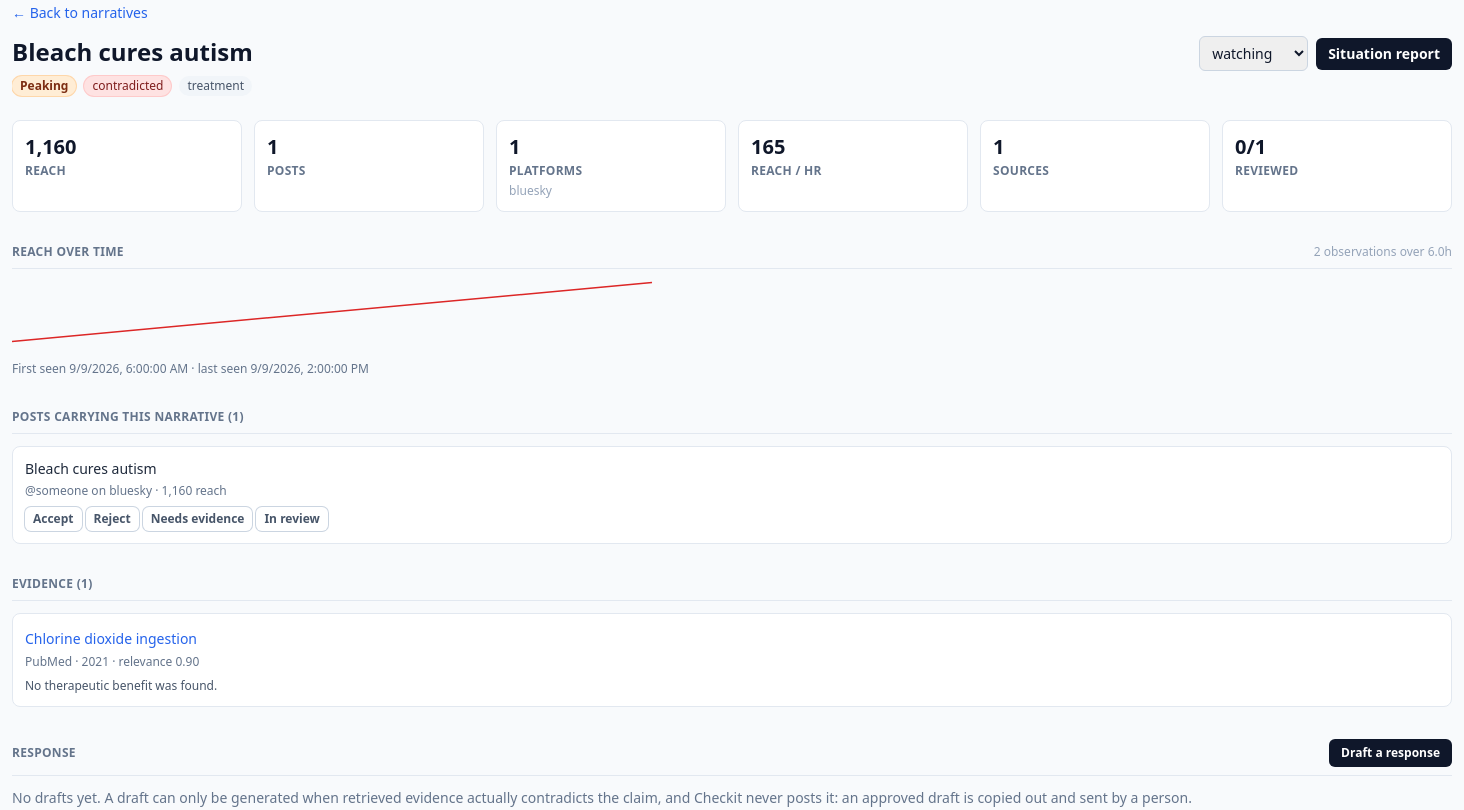
NarrativePage › offers no copy control until a draft is approved
Click the button "Draft a response" at point(1391, 753), box [1329,739,1452,767]
(page scrolled)
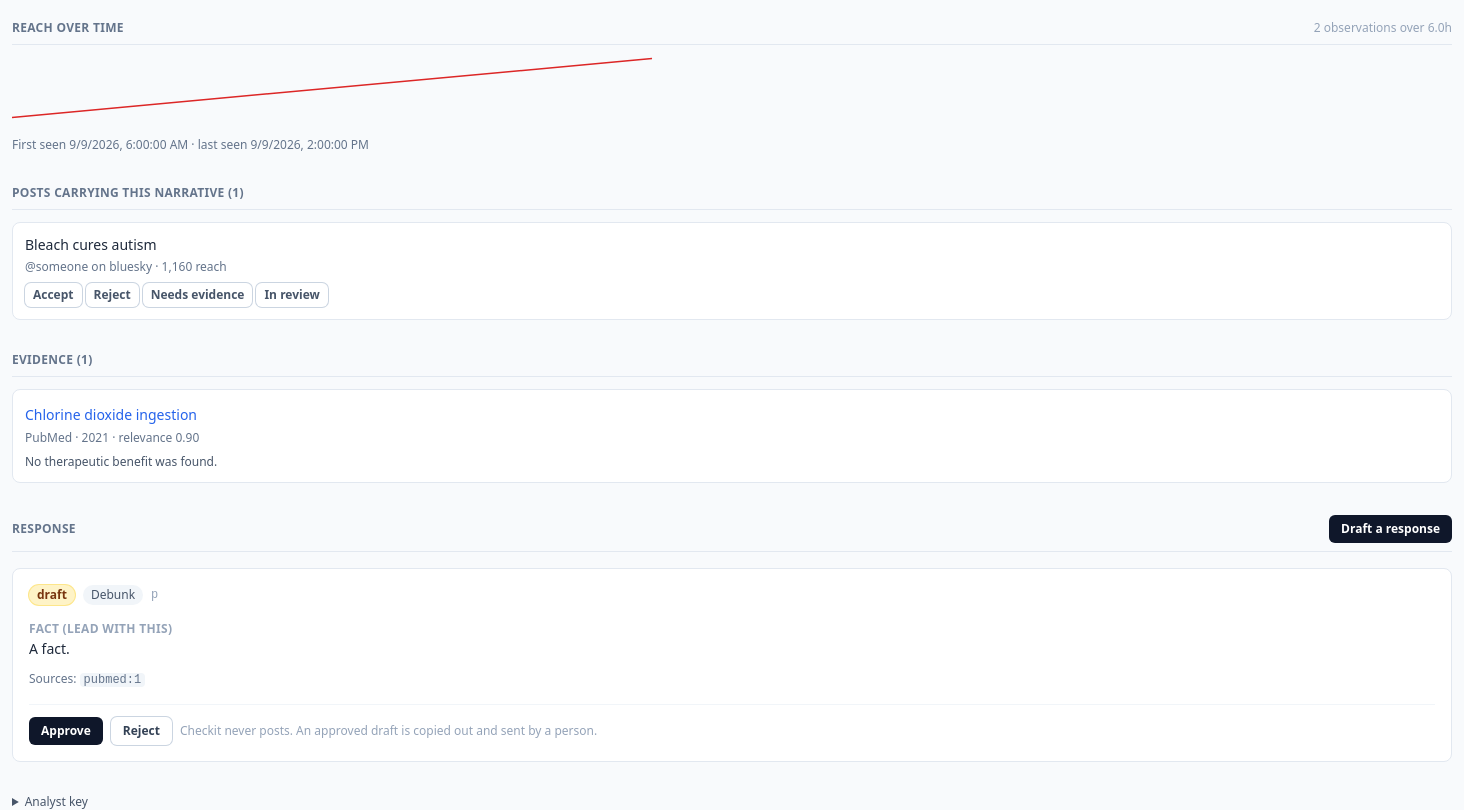
Expected: the text "A fact." is shown, [29,639,70,658]
Expected: the button "Approve" is shown, [29,717,103,745]
